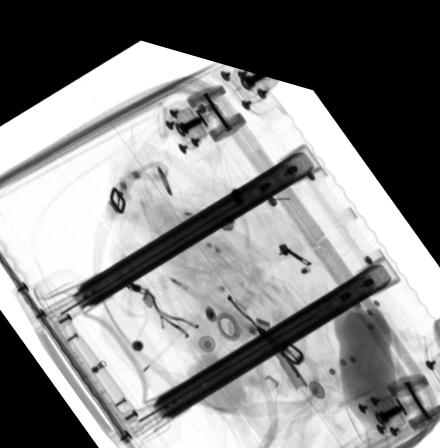Lighter: (178, 197, 235, 218)
